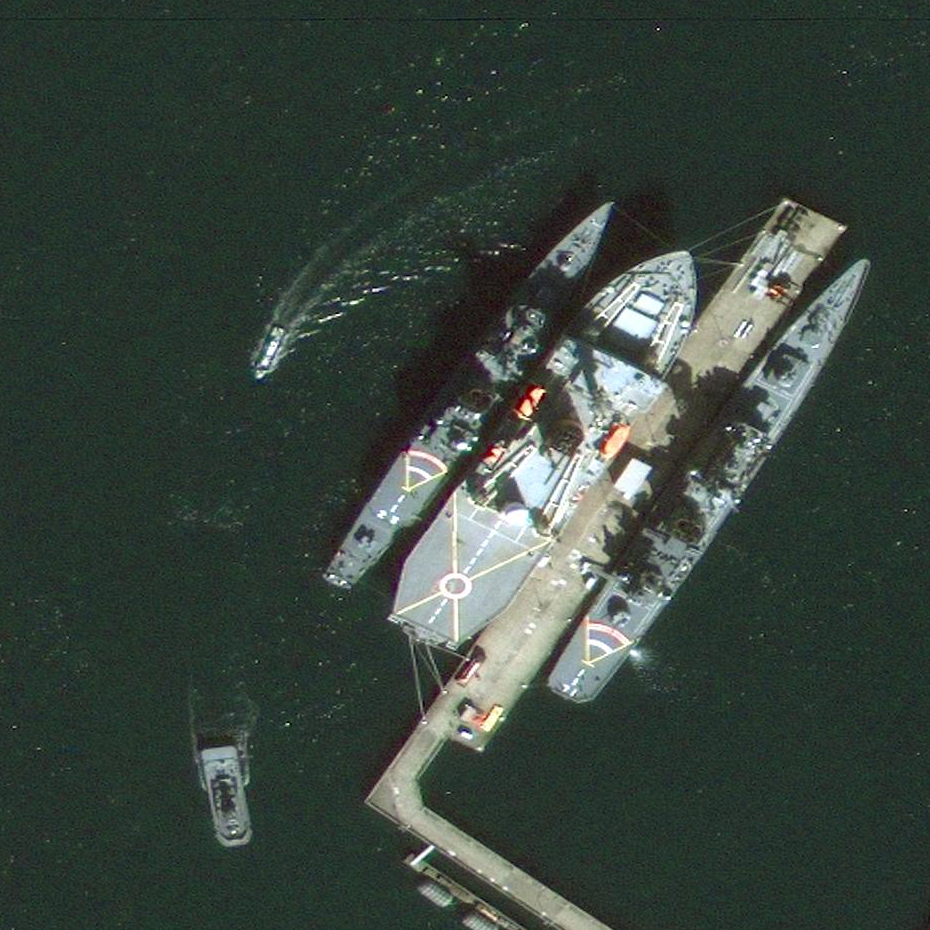Dock: (388, 190, 842, 802)
Hatsuyuki DD: (313, 187, 635, 607)
Other Destroyer: (537, 232, 889, 722)
Other Landing: (370, 218, 732, 672)
Other Warship: (200, 744, 252, 848), (251, 325, 287, 383)
